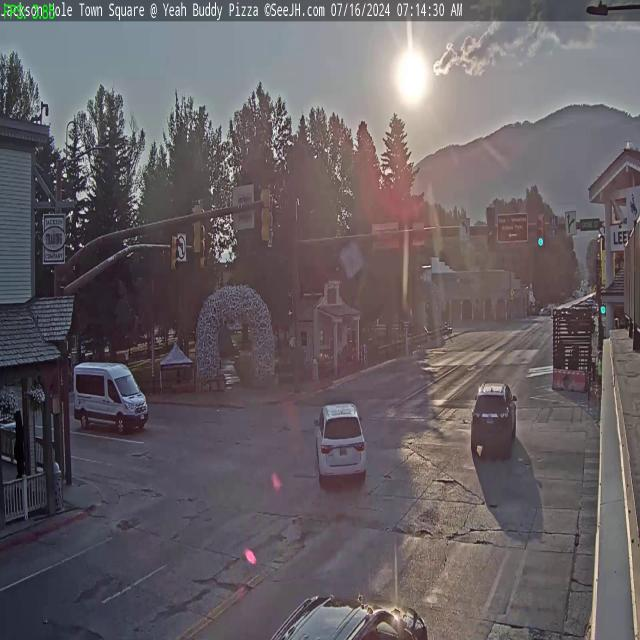suv: (251, 582, 432, 640), (314, 400, 368, 484), (471, 380, 518, 460)
traffic light: (190, 200, 204, 256), (261, 184, 273, 244), (169, 230, 179, 274), (487, 207, 496, 250), (537, 214, 545, 247)
van: (70, 359, 152, 435)
